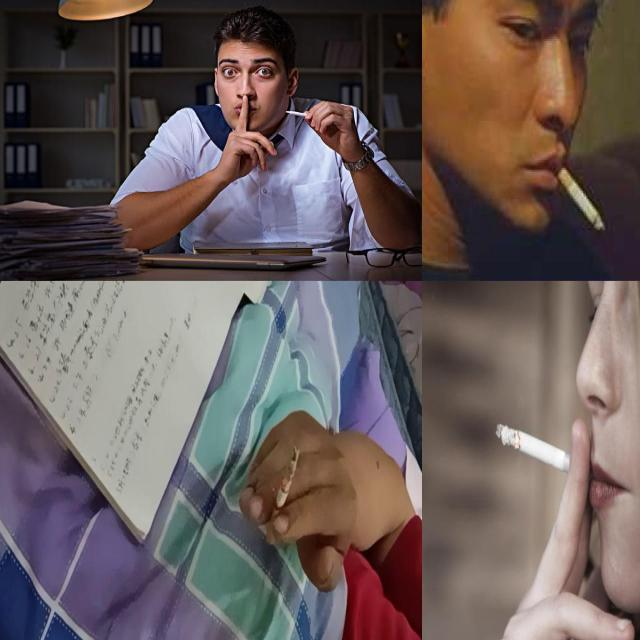smoking: (492, 417, 590, 483), (552, 154, 606, 233), (265, 446, 301, 546), (284, 110, 314, 118)
